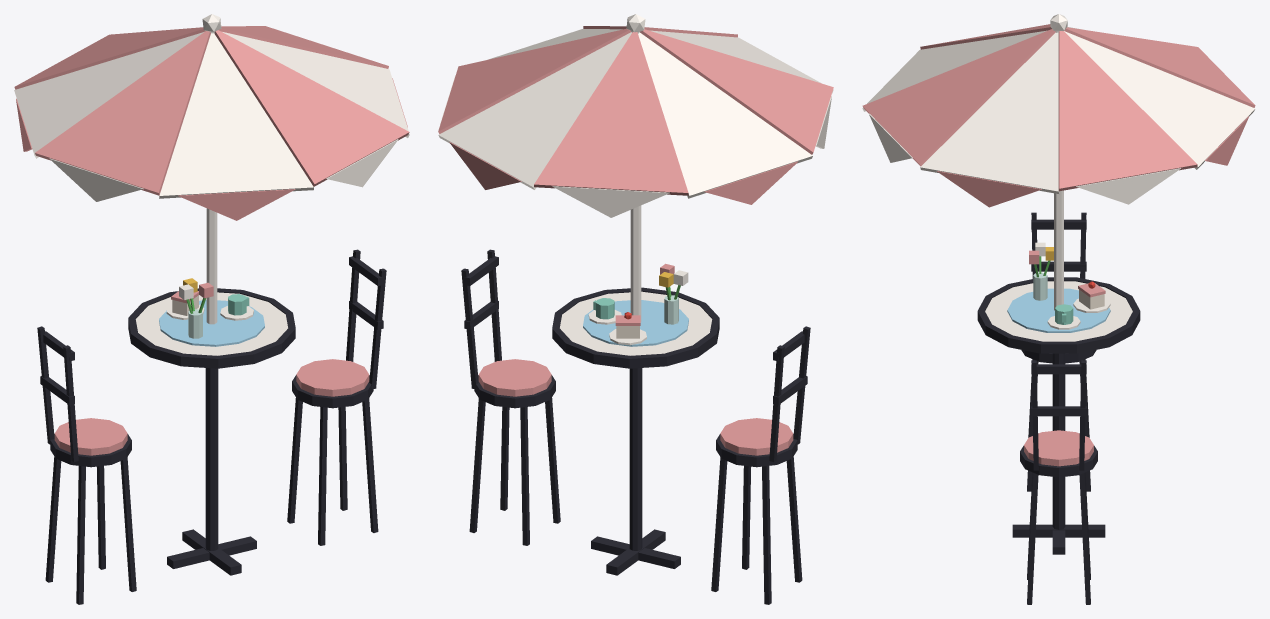
File: CatCafe_Lawn_UmbrellaTable.glb
3 renders of one model, left to right at view 1: azimuth 30°, elevation 25°; view 2: azimuth 150°, elevation 25°; view 3: azimuth 270°, elevation 25°, orthographic. The views are drawn at different scales.
Parts seen in each view (by area): view 1: CatCafe_Lawn_UmbrellaTable; view 2: CatCafe_Lawn_UmbrellaTable; view 3: CatCafe_Lawn_UmbrellaTable.
Boxes of the visible parts, x1=… form: CatCafe_Lawn_UmbrellaTable: x1=14, y1=14, x2=409, y2=604; CatCafe_Lawn_UmbrellaTable: x1=438, y1=14, x2=833, y2=604; CatCafe_Lawn_UmbrellaTable: x1=862, y1=14, x2=1255, y2=604.
Bounding box in the file's own units: 3.82 × 5.58 × 3.82.
1 material, 1 textured.
